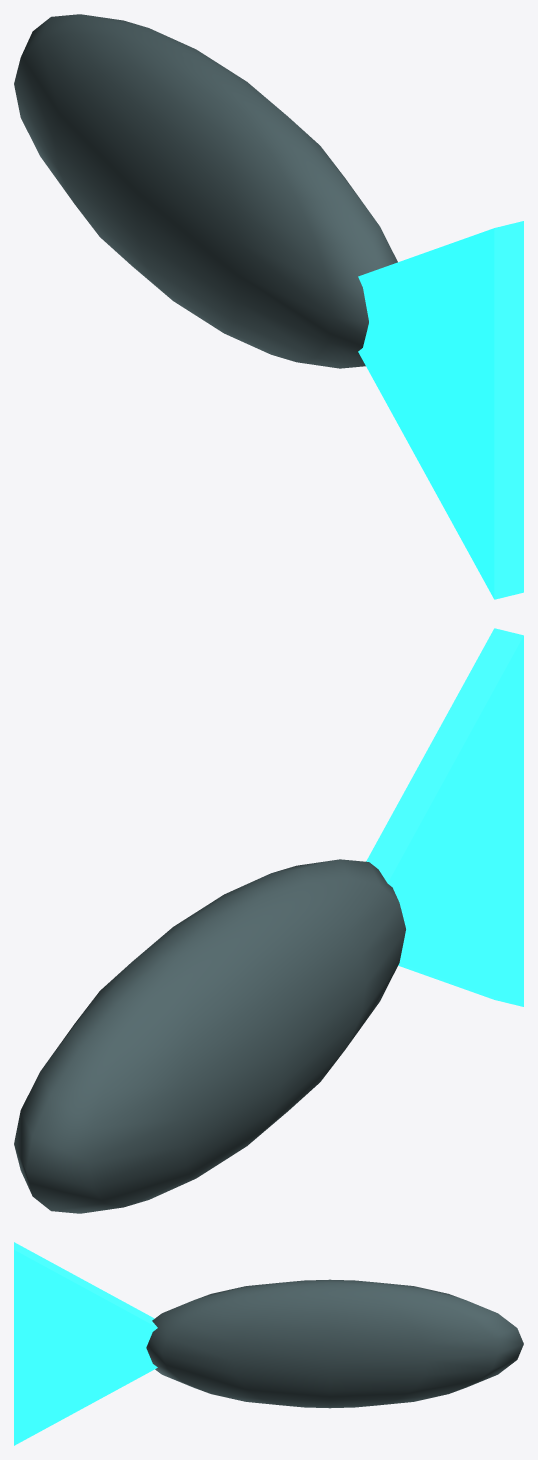
The model's file is fish.glb.
3 renders of one model, top to bottom at view 1: azimuth 30°, elevation 25°; view 2: azimuth 150°, elevation 25°; view 3: azimuth 270°, elevation 25°, orthographic. The views are drawn at different scales.
Parts seen in each view (by area): view 1: fish_Titanium, fish_Bio; view 2: fish_Titanium, fish_Bio; view 3: fish_Titanium, fish_Bio.
Part boxes in pixels (<box>): fish_Titanium: <box>14,14,397,368</box>; fish_Bio: <box>358,221,523,599</box>; fish_Titanium: <box>14,859,405,1213</box>; fish_Bio: <box>366,628,523,1006</box>; fish_Titanium: <box>146,1279,523,1408</box>; fish_Bio: <box>14,1242,157,1445</box>.
Size of the model in its own units: 0.2 by 0.48 by 1.13.
